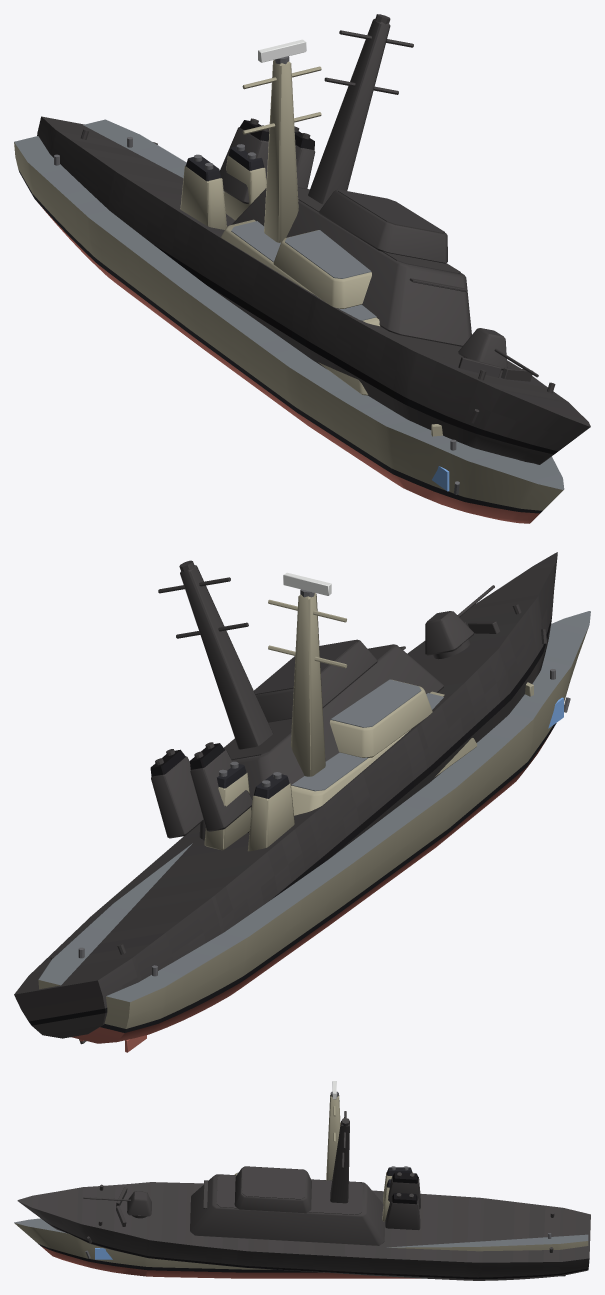
Rendered from gunboat__hayabusa_class.glb.
3 views of the same model, one above another, from view 1: azimuth 30°, elevation 25°; view 2: azimuth 150°, elevation 25°; view 3: azimuth 270°, elevation 25° (orthographic). The views are drawn at different scales.
Visible parts, largest first — view 1: Wreck, Hull_Mesh, Radar_Mesh; view 2: Wreck, Hull_Mesh, Radar_Mesh; view 3: Wreck, Hull_Mesh.
Boxes of the visible parts, left/top/right/bottom form: Wreck: left=37, top=14, right=590, bottom=464; Hull_Mesh: left=14, top=59, right=564, bottom=523; Radar_Mesh: left=258, top=39, right=306, bottom=64; Wreck: left=14, top=552, right=557, bottom=1044; Hull_Mesh: left=38, top=593, right=590, bottom=1052; Radar_Mesh: left=283, top=572, right=331, bottom=597; Wreck: left=17, top=1111, right=590, bottom=1280; Hull_Mesh: left=14, top=1095, right=588, bottom=1278.
Size of what is drawn, in the model's own units: 12.54 by 18.32 by 52.35.
